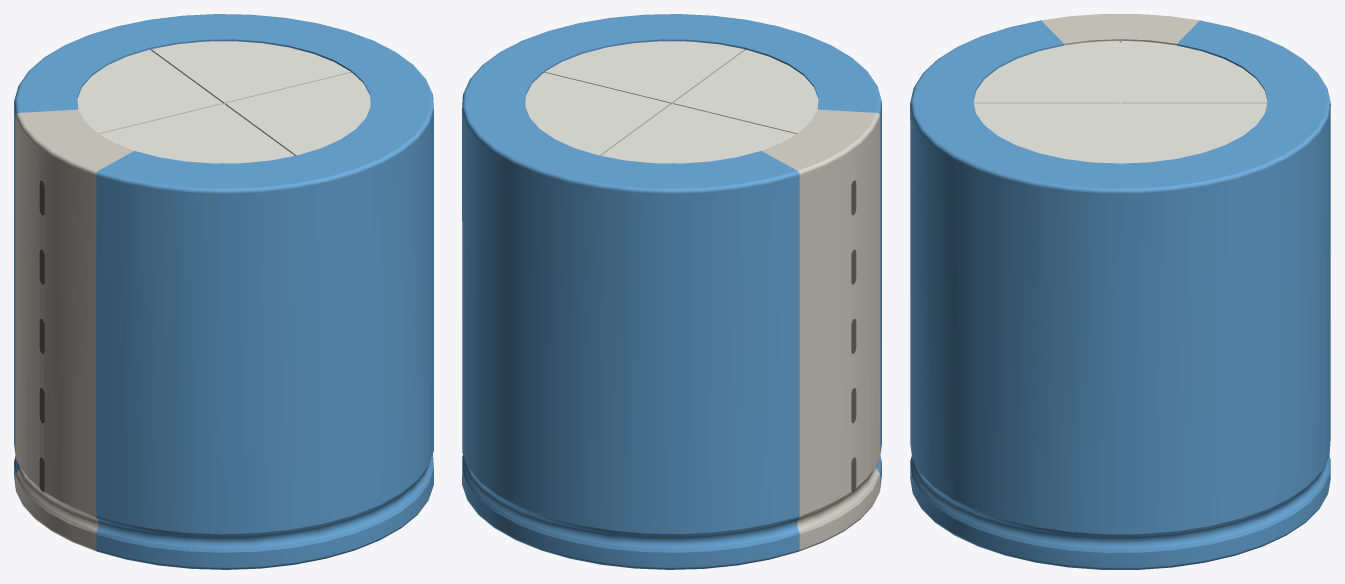
File: kc-cp_radial_d22.0mm_p10.00mm_3pin_snapin.glb
3 renders of one model, left to right at view 1: azimuth 30°, elevation 25°; view 2: azimuth 150°, elevation 25°; view 3: azimuth 270°, elevation 25°, orthographic.
Visible parts, largest first — view 1: 0.16666666666666666_0.4166666666666667_0.75_0, 0.6666666666666666_0.6666666666666666_0.5833333333333334_0, 0.8333333333333334_0.8333333333333334_0.75_0.85, 0.16666666666666666_0.16666666666666666_0.16666666666666666_; view 2: 0.16666666666666666_0.4166666666666667_0.75_0, 0.6666666666666666_0.6666666666666666_0.5833333333333334_0, 0.8333333333333334_0.8333333333333334_0.75_0.85, 0.16666666666666666_0.16666666666666666_0.16666666666666666_; view 3: 0.16666666666666666_0.4166666666666667_0.75_0, 0.8333333333333334_0.8333333333333334_0.75_0.85, 0.6666666666666666_0.6666666666666666_0.5833333333333334_0.
Part boxes in pixels (x1,y1,x2,y2): 0.16666666666666666_0.4166666666666667_0.75_0: (14,14,433,569); 0.6666666666666666_0.6666666666666666_0.5833333333333334_0: (15,109,134,551); 0.8333333333333334_0.8333333333333334_0.75_0.85: (77,41,370,163); 0.16666666666666666_0.16666666666666666_0.16666666666666666_: (39,180,44,492); 0.16666666666666666_0.4166666666666667_0.75_0: (462,14,881,569); 0.6666666666666666_0.6666666666666666_0.5833333333333334_0: (761,109,880,551); 0.8333333333333334_0.8333333333333334_0.75_0.85: (525,41,818,163); 0.16666666666666666_0.16666666666666666_0.16666666666666666_: (851,180,856,492); 0.16666666666666666_0.4166666666666667_0.75_0: (910,20,1330,569); 0.8333333333333334_0.8333333333333334_0.75_0.85: (973,41,1267,163); 0.6666666666666666_0.6666666666666666_0.5833333333333334_0: (1041,14,1199,45).
Size of the model in its own units: 2.2 by 2.4 by 2.2.
